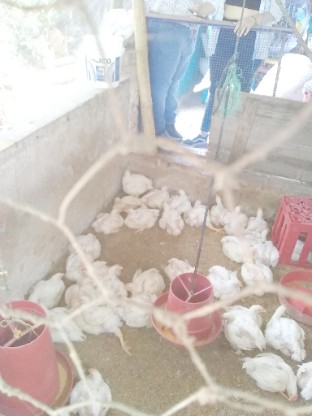Pollos: (221, 300, 270, 357), (238, 353, 293, 402), (67, 364, 115, 416), (266, 302, 306, 356), (76, 295, 126, 336), (34, 301, 76, 348), (24, 268, 68, 308), (203, 261, 243, 302), (122, 268, 168, 297), (242, 262, 278, 299), (161, 254, 201, 283), (58, 249, 103, 274), (92, 206, 126, 234), (244, 201, 274, 232), (117, 167, 154, 192), (162, 201, 187, 236), (219, 235, 252, 259), (294, 360, 312, 404), (222, 205, 251, 232), (186, 196, 211, 227), (124, 208, 158, 229), (142, 180, 169, 206), (253, 241, 280, 267), (67, 232, 102, 252), (207, 190, 228, 223), (110, 188, 142, 208), (170, 184, 190, 211), (108, 263, 124, 282), (81, 276, 98, 290), (259, 225, 272, 243)
